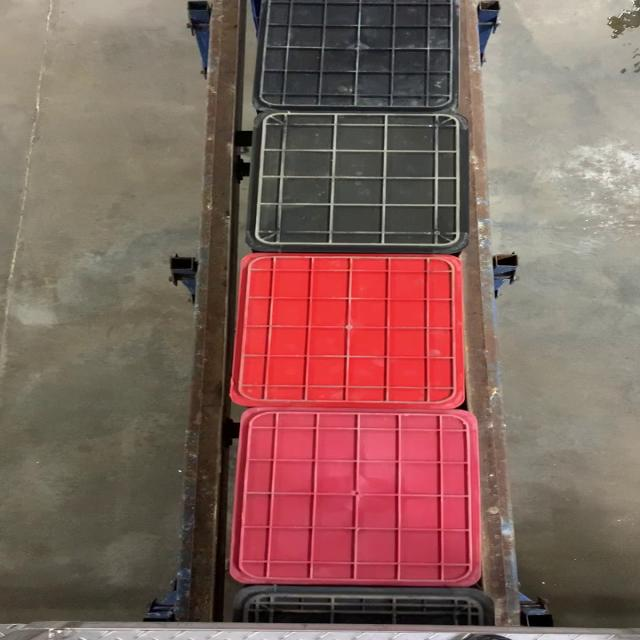Box: (229, 406, 479, 590), (227, 255, 472, 407), (250, 108, 471, 256)
